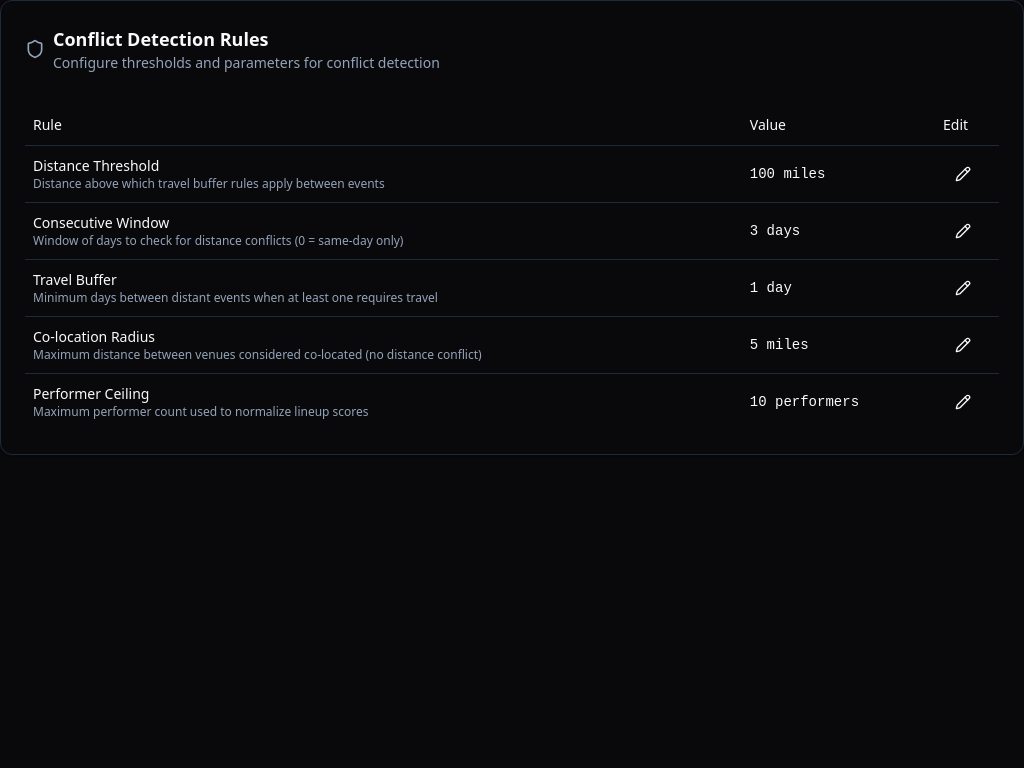
Scenario: ConflictRulesSection › shows validation error for invalid number
Click the button without text in the row of "Distance Threshold".
click(963, 174)  # box x1=943 y1=154 x2=983 y2=194
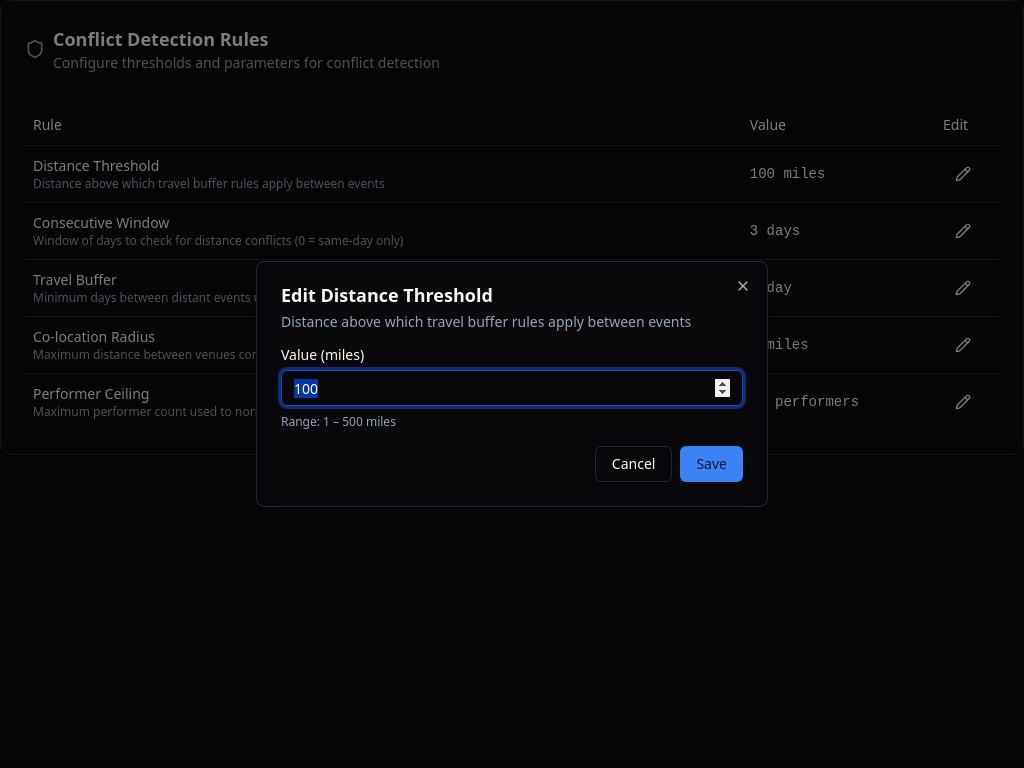
Replace the text in the number field labelled "Value (miles)" with "abc" at [512, 388], box x1=281 y1=370 x2=743 y2=406
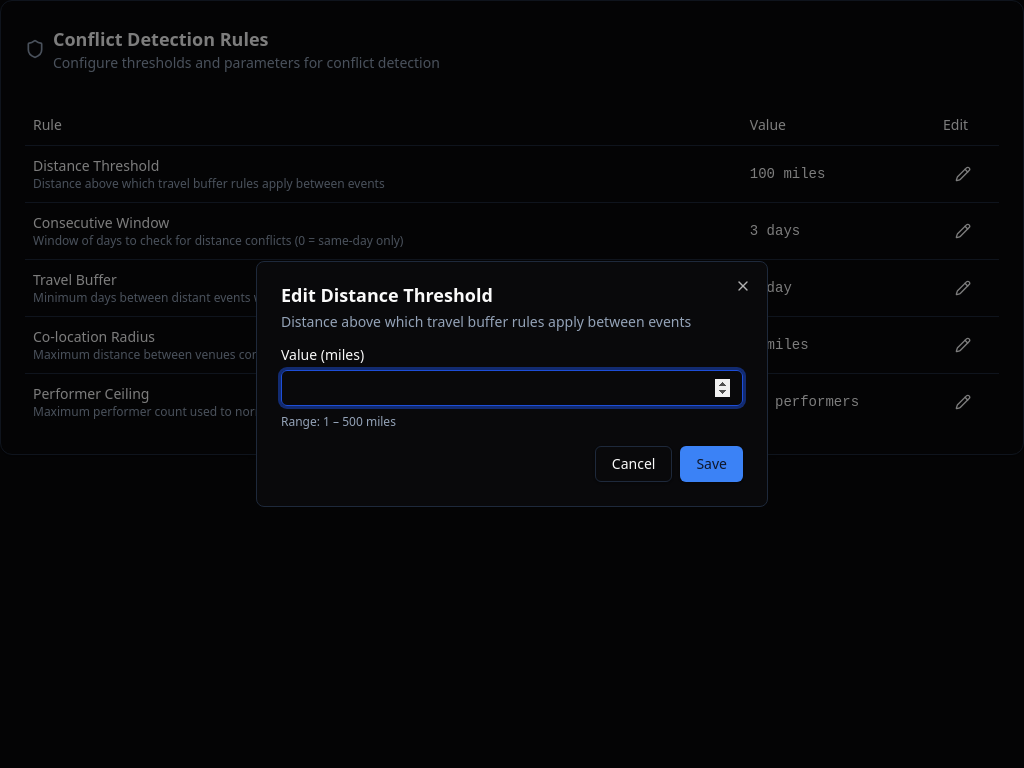
Click the button "Save".
click(712, 464)  # box x1=680 y1=446 x2=743 y2=482
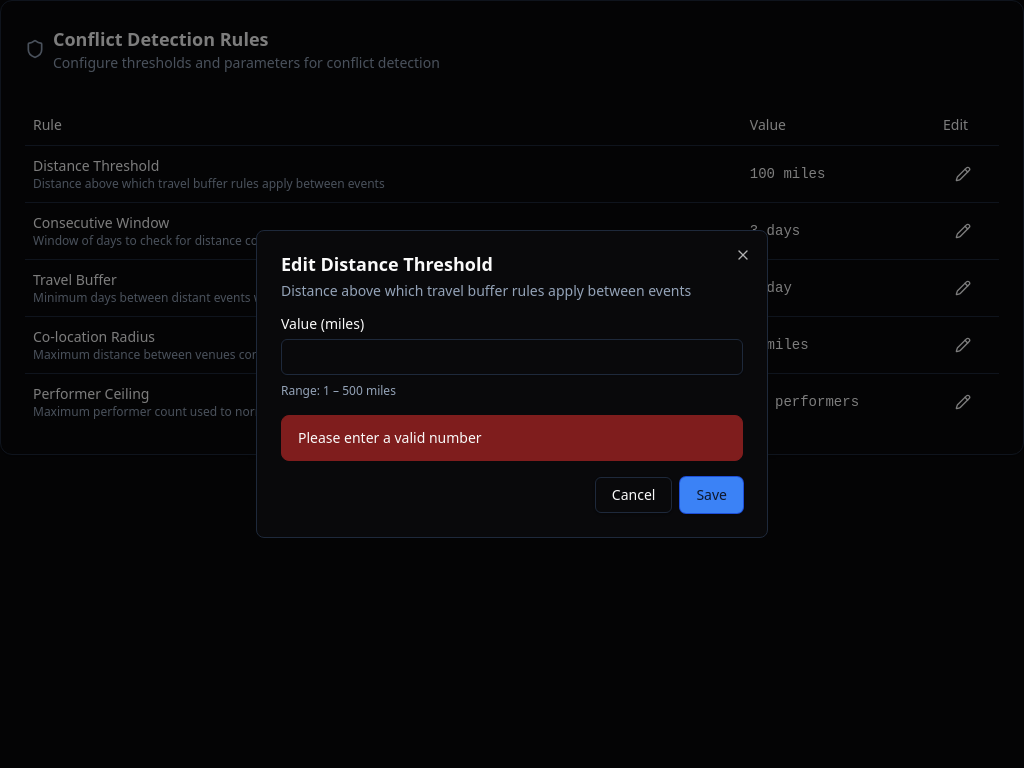
Expected: the text "Please enter a valid number" is shown, x1=298 y1=428 x2=482 y2=447
